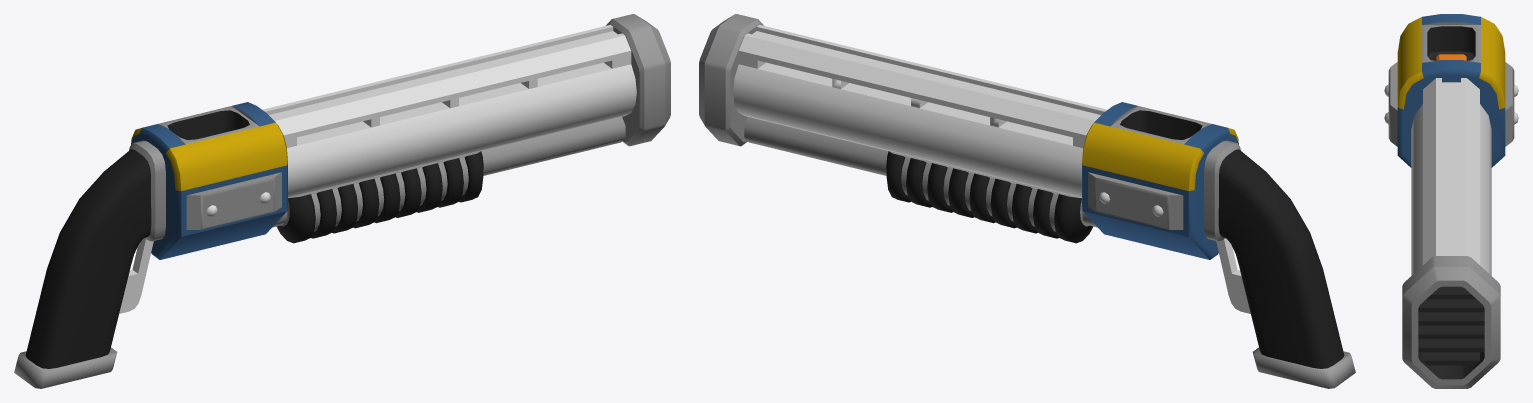
File: ChargeBlaster.FBX
The picture shows the model from 3 angles, left to right: view 1: azimuth 30°, elevation 25°; view 2: azimuth 150°, elevation 25°; view 3: azimuth 270°, elevation 25°; orthographic projection. The views are drawn at different scales.
Parts seen in each view (by area): view 1: ChargeBlaster, Pump; view 2: ChargeBlaster, Pump; view 3: ChargeBlaster.
Boxes of the visible parts, x1,y1,x2,y2 form: ChargeBlaster: [14, 14, 670, 388]; Pump: [276, 151, 483, 243]; ChargeBlaster: [699, 14, 1355, 388]; Pump: [886, 151, 1093, 243]; ChargeBlaster: [1384, 14, 1518, 388].
Bounding box in the file's own units: 338 × 111 × 59.57.
